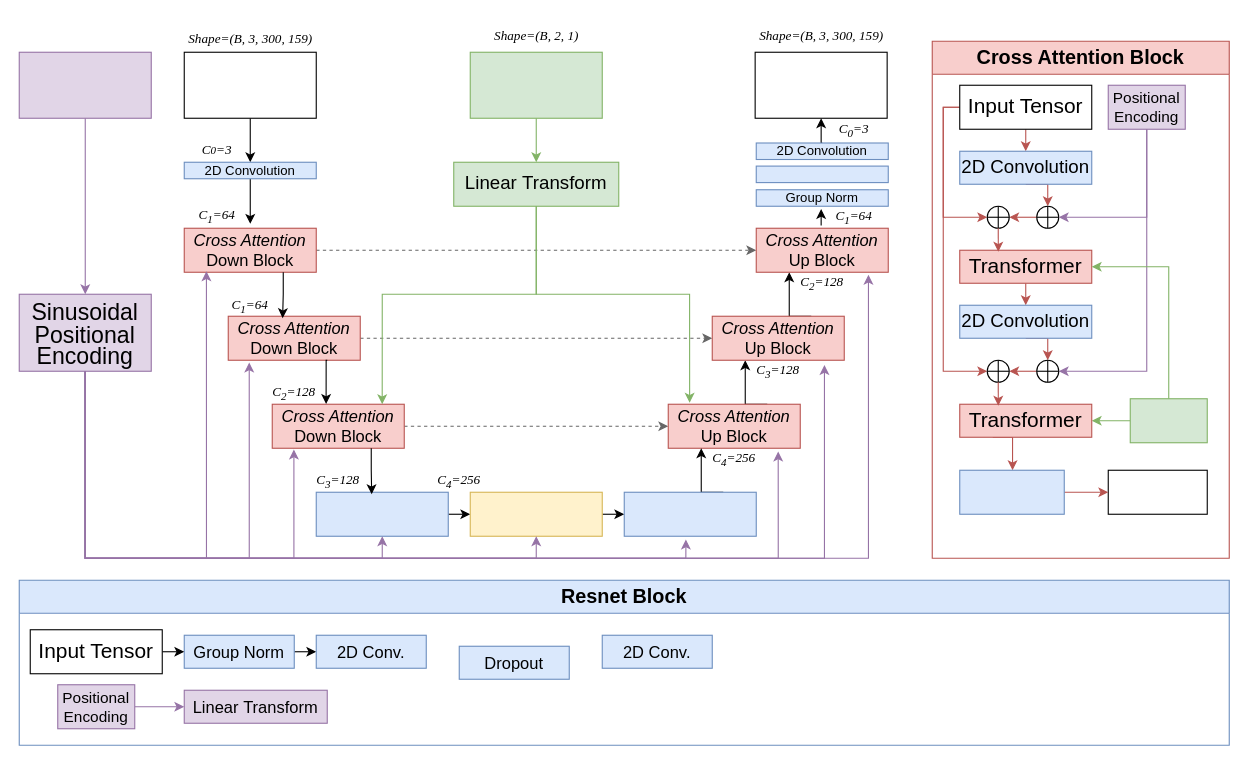
Image size: 1249x765. Some labels were removed from this diagram. The shapes that lost their labels are listed below. From the top down, each one's centre as x and y in pixels, then its label:
(84,84): Timestep
(249,84): Latent Input x t
(535,84): Processing Parameters
(820,84): Latent Output x t-1
(821,174): SiLU
(1168,420): Parameter Encoding
(1011,491): Resnet Down/Up Block
(1157,491): Output Tensor
(381,513): Resnet Down Block
(535,513): Cross Attention Middle Block
(689,513): Resnet Up Block
